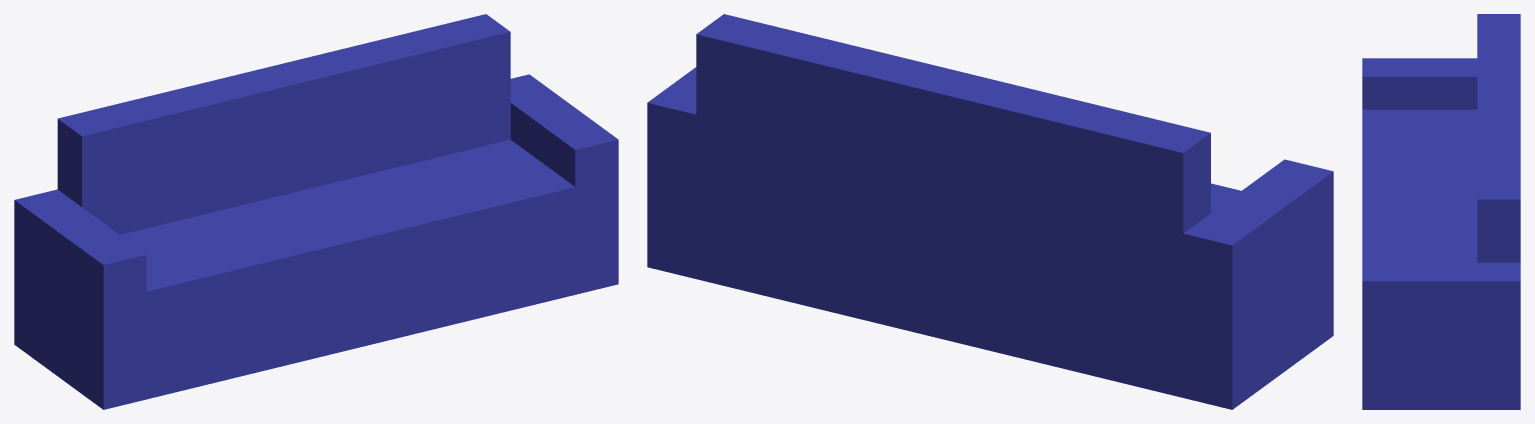
Rendered from couch_5x1x2.FBX.
3 renders of one model, left to right at view 1: azimuth 30°, elevation 25°; view 2: azimuth 150°, elevation 25°; view 3: azimuth 270°, elevation 25°, orthographic. The views are drawn at different scales.
Parts seen in each view (by area): view 1: couch_5x1x2; view 2: couch_5x1x2; view 3: couch_5x1x2.
Boxes of the visible parts, bbox=[...] form: couch_5x1x2: bbox=[14, 14, 618, 409]; couch_5x1x2: bbox=[647, 14, 1333, 409]; couch_5x1x2: bbox=[1362, 14, 1520, 409].
Size of the model in its own units: 5 by 2 by 1.5.
